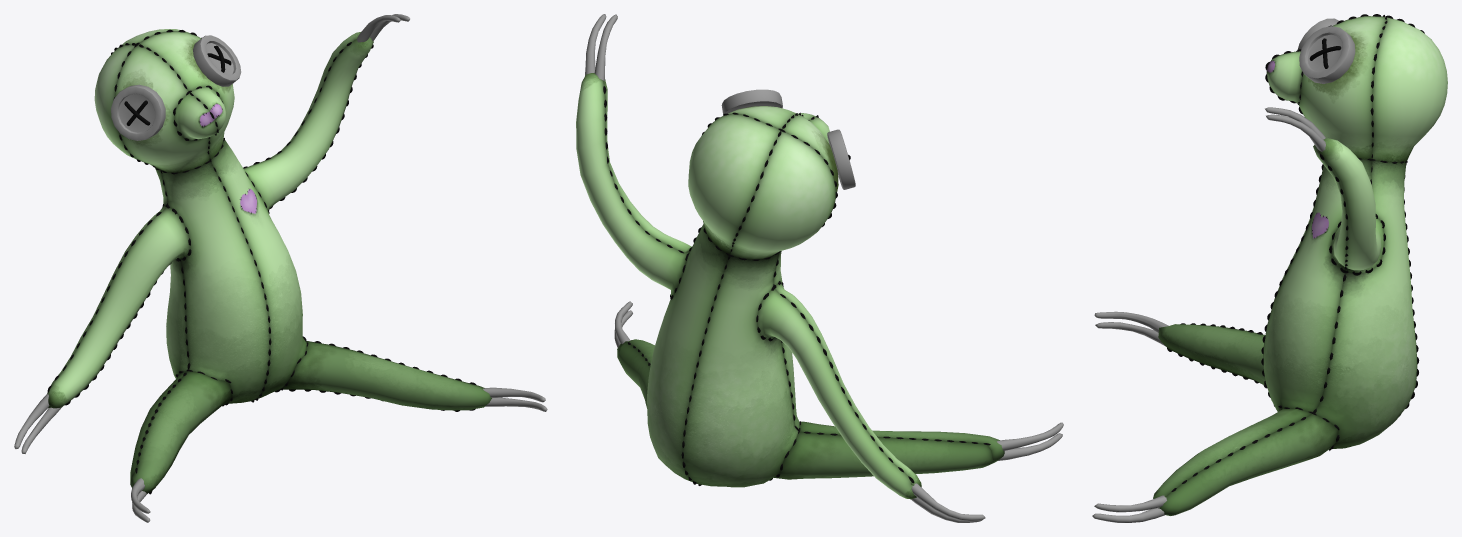
The model's file is sloth.FBX.
3 views of the same model, side by side, from view 1: azimuth 30°, elevation 25°; view 2: azimuth 150°, elevation 25°; view 3: azimuth 270°, elevation 25° (orthographic). The views are drawn at different scales.
Visible parts, largest first — view 1: RetopoGroup006, stitch_body_mp001, claws, buttoneye_mp, buttoneye_mp001; view 2: RetopoGroup006, claws, stitch_body_mp001, buttoneye_mp001, buttoneye_mp; view 3: RetopoGroup006, claws, stitch_body_mp001, buttoneye_mp001.
Boxes of the visible parts, x1,y1,x2,y2 form: RetopoGroup006: [47, 29, 491, 493]; stitch_body_mp001: [47, 29, 476, 494]; claws: [14, 14, 547, 522]; buttoneye_mp: [111, 84, 165, 140]; buttoneye_mp001: [193, 35, 241, 86]; RetopoGroup006: [576, 73, 1004, 499]; claws: [585, 14, 1063, 522]; stitch_body_mp001: [603, 86, 990, 485]; buttoneye_mp001: [721, 89, 782, 114]; buttoneye_mp: [827, 129, 855, 189]; RetopoGroup006: [1153, 16, 1447, 515]; claws: [1092, 107, 1325, 522]; stitch_body_mp001: [1158, 14, 1424, 508]; buttoneye_mp001: [1299, 26, 1355, 83].
Size of the model in its own units: 30.07 by 24.82 by 20.06.
